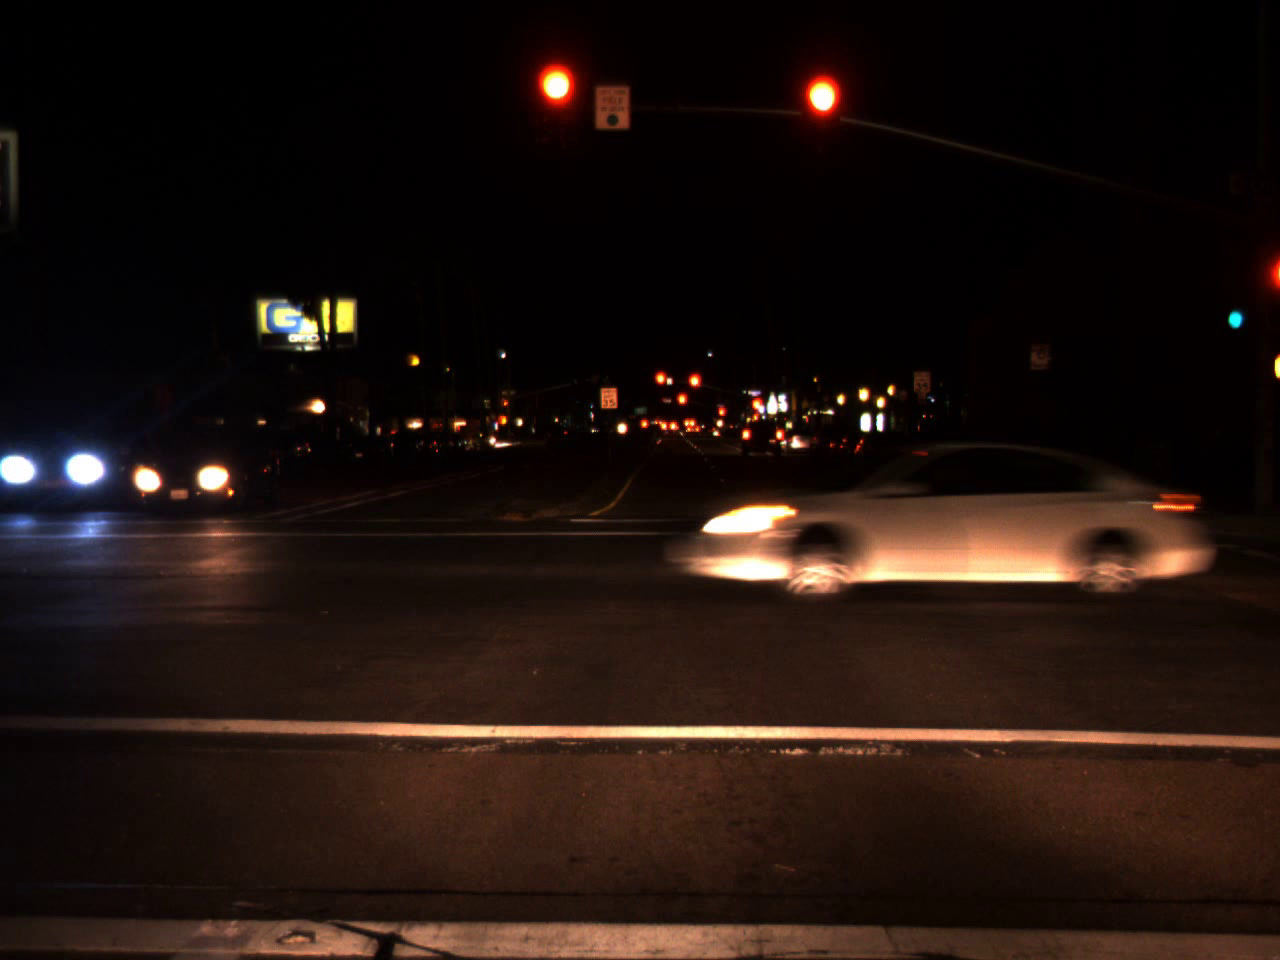stop: (537, 65, 577, 143), (801, 75, 841, 153), (686, 371, 702, 403), (653, 369, 668, 401), (675, 391, 688, 418), (751, 399, 761, 419), (717, 408, 723, 421), (502, 401, 508, 411)
